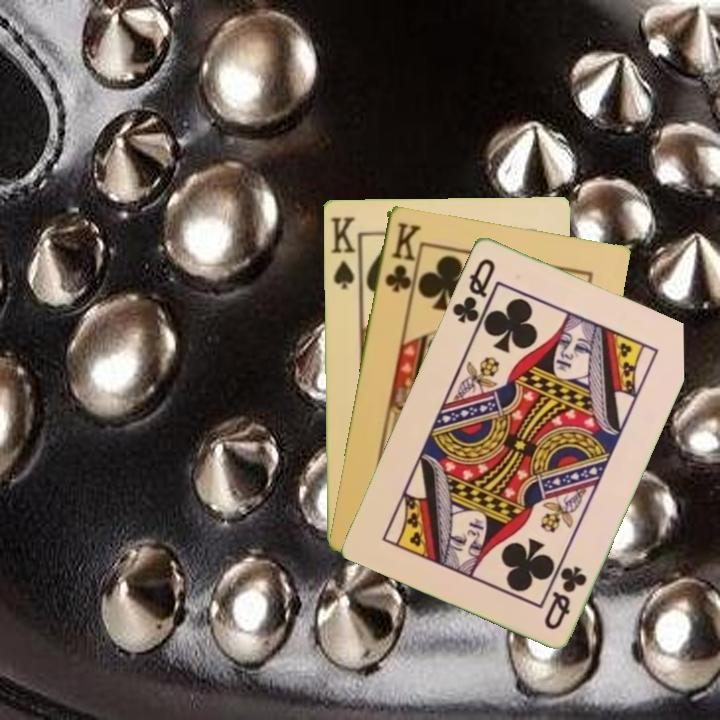Kc: (381, 218, 422, 295)
Ks: (327, 213, 361, 292)
Qc: (448, 254, 498, 333), (540, 562, 590, 632)
